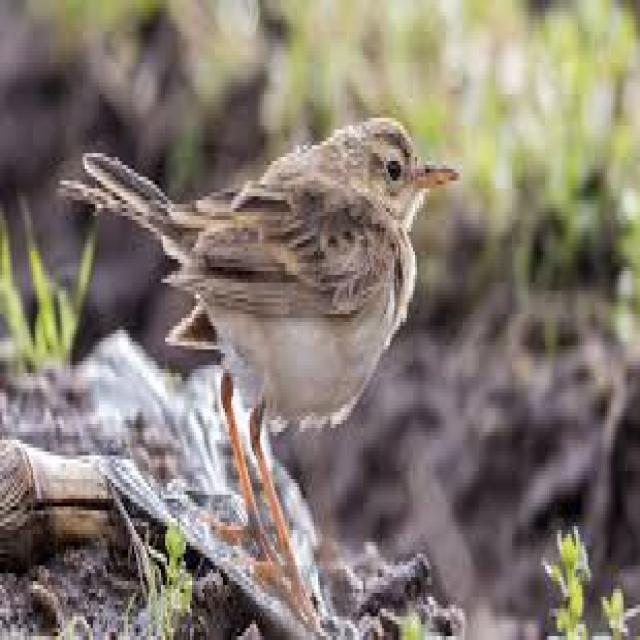bird: (65, 104, 462, 625)
